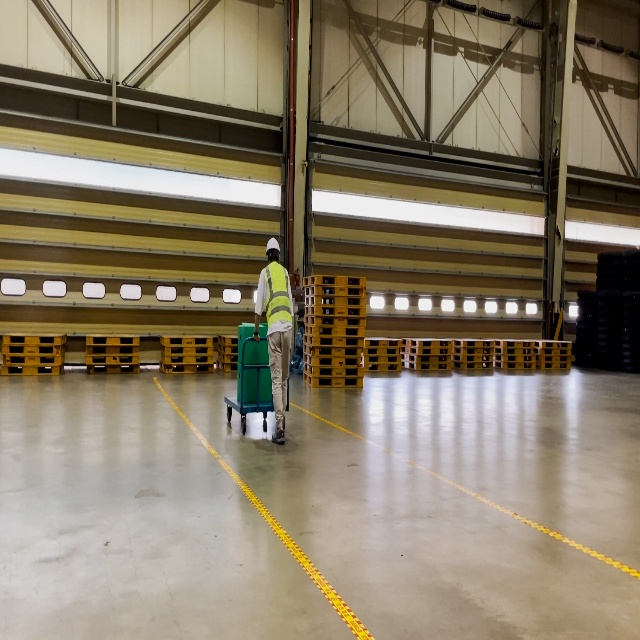Box: (237, 363, 272, 403), (237, 322, 270, 362)
Worker: (252, 237, 294, 446)
